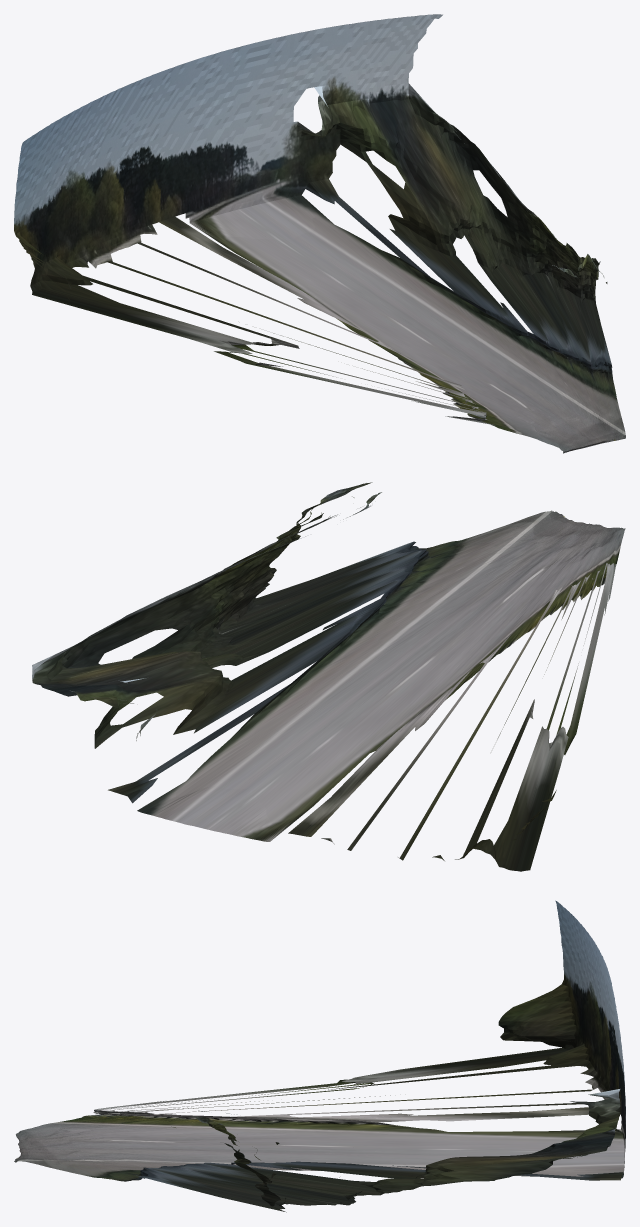
3 views of the same model, one above another, from view 1: azimuth 30°, elevation 25°; view 2: azimuth 150°, elevation 25°; view 3: azimuth 270°, elevation 25° (orthographic). The views are drawn at different scales.
Parts seen in each view (by area): view 1: defaultobject; view 2: defaultobject; view 3: defaultobject.
Boxes of the visible parts, bbox=[...] form: defaultobject: bbox=[14, 14, 625, 453]; defaultobject: bbox=[32, 482, 625, 871]; defaultobject: bbox=[14, 900, 625, 1212].
Size of the model in its own units: 33.35 by 12.33 by 44.64.
Materials: 1 (1 with a texture image).
